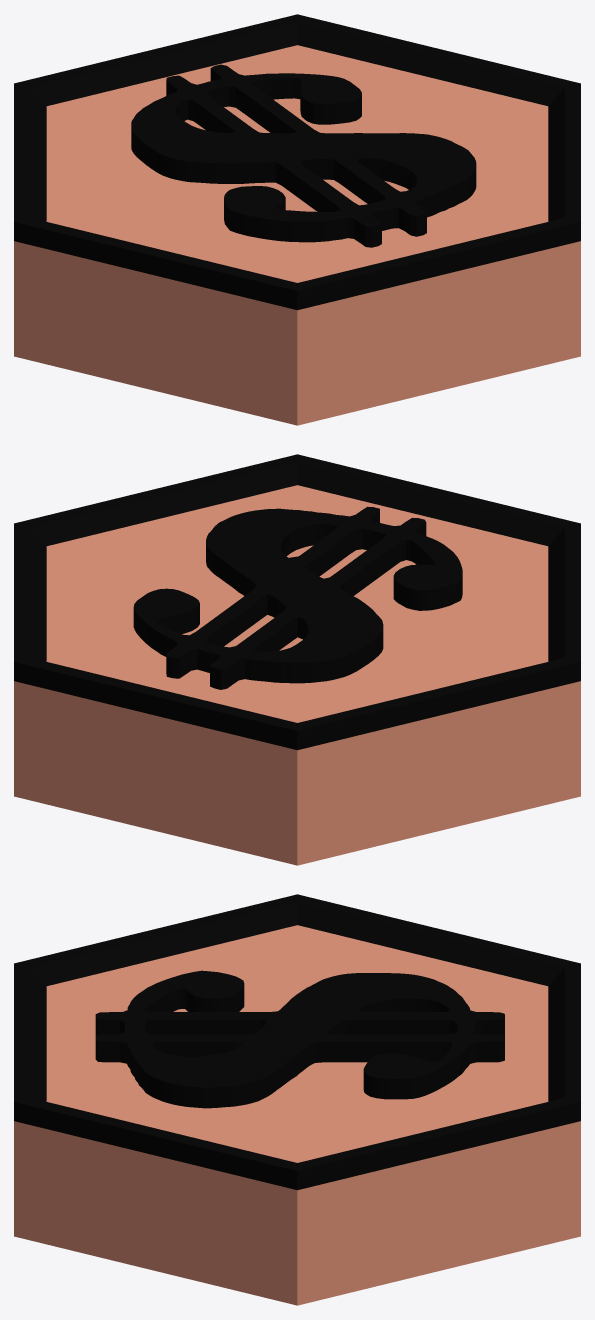
Rendered from shoproom.glb.
The picture shows the model from 3 angles, top to bottom: view 1: azimuth 30°, elevation 25°; view 2: azimuth 150°, elevation 25°; view 3: azimuth 270°, elevation 25°; orthographic projection.
Parts seen in each view (by area): view 1: Cylinder.003, Plane.001; view 2: Cylinder.003, Plane.001; view 3: Cylinder.003, Plane.001.
Part boxes in pixels (x1,y1,x2,y2): Cylinder.003: (14,14,580,425); Plane.001: (131,64,476,247); Cylinder.003: (14,454,580,865); Plane.001: (133,506,462,689); Cylinder.003: (14,894,580,1305); Plane.001: (95,970,504,1108).
Bounding box in the file's own units: 2 × 0.4729 × 1.73.
